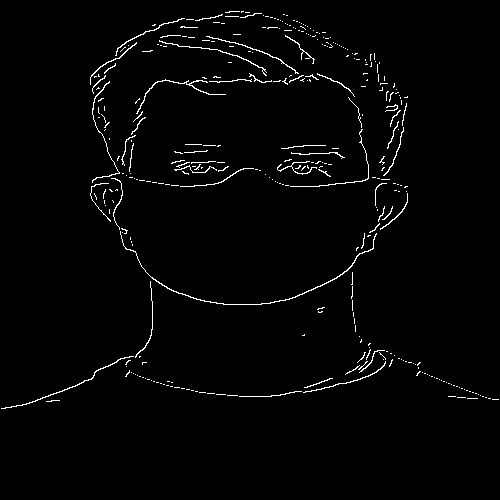mask: (119, 174, 377, 306)
